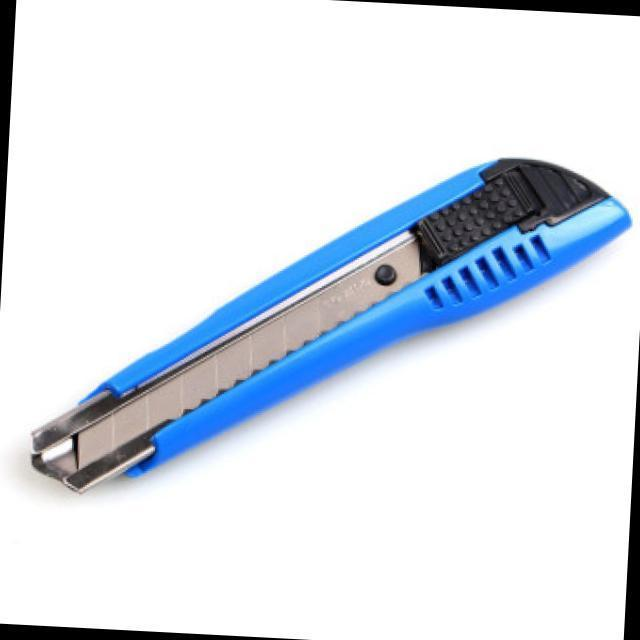cutter: (18, 113, 640, 547)
